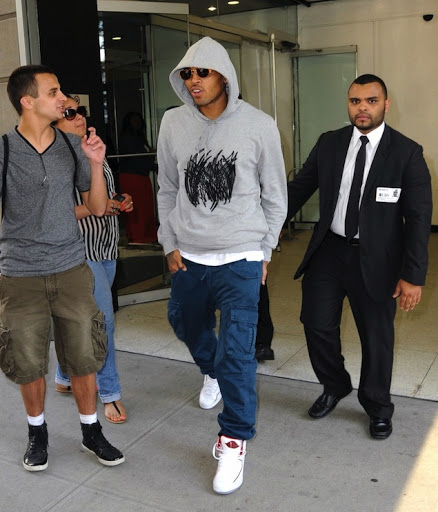Person: (154, 34, 278, 481), (1, 70, 129, 468), (297, 75, 425, 441)
